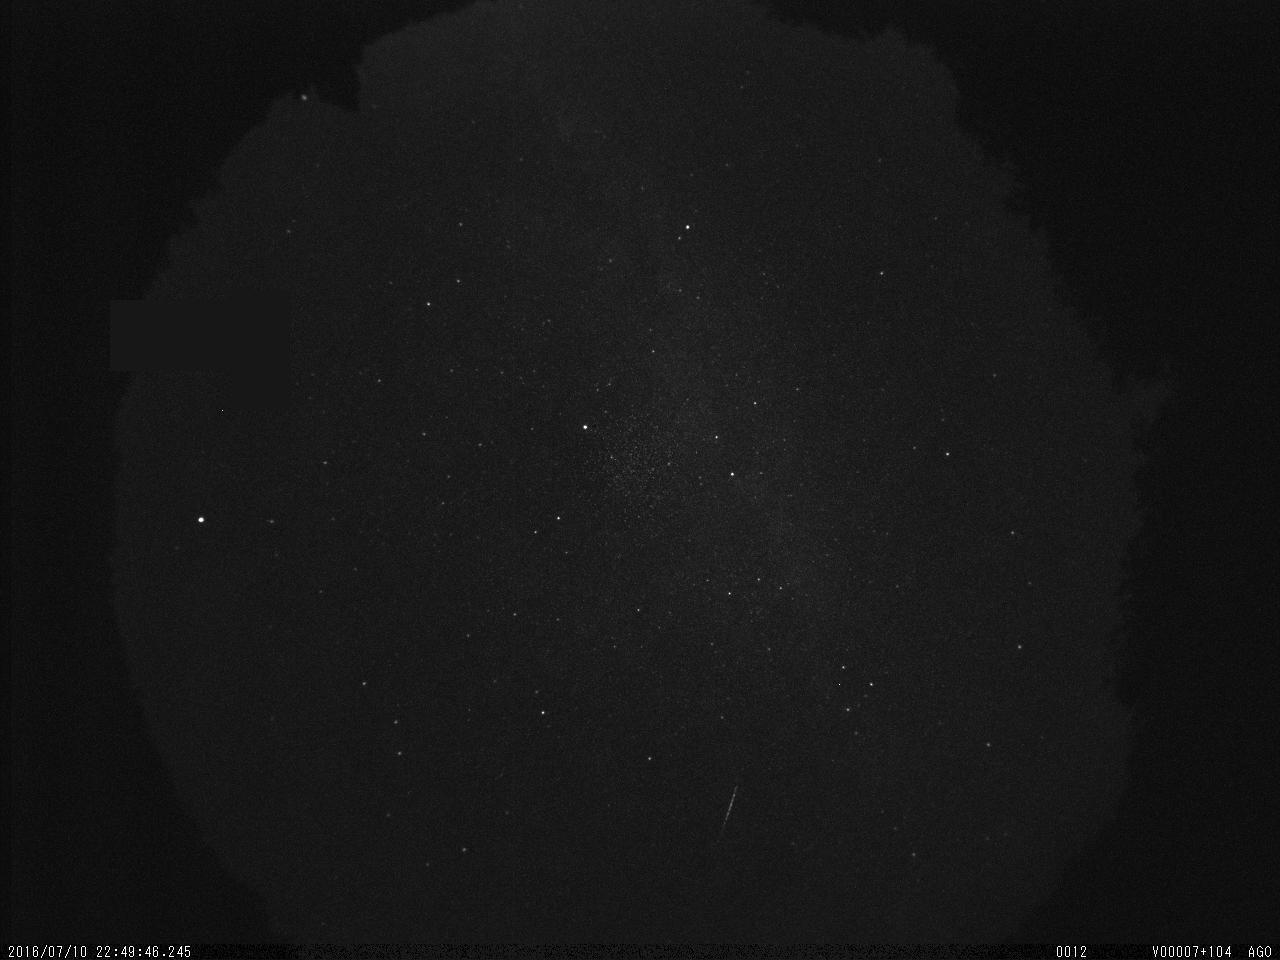meteor: (713, 775, 748, 849)
